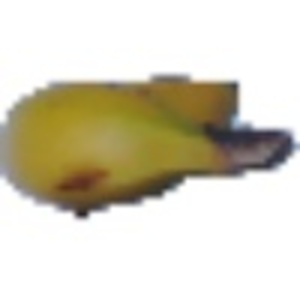banana: (1, 68, 293, 202)
